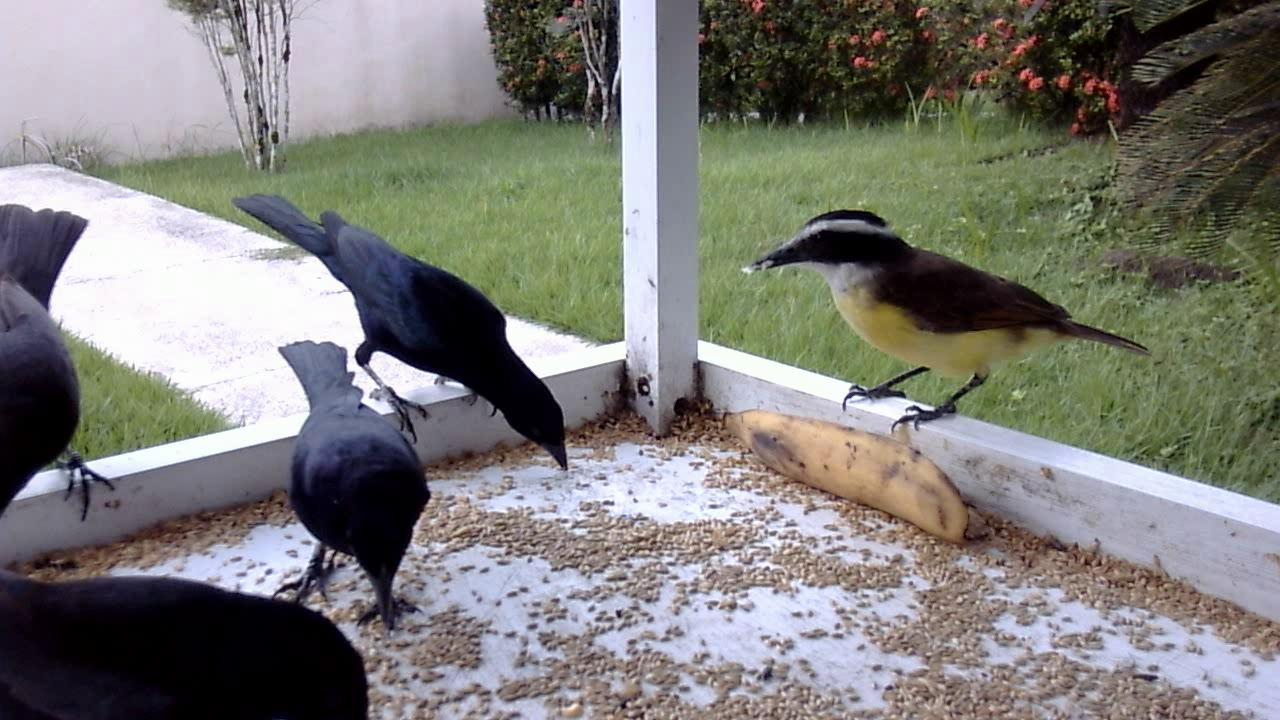bem_te_vi: (738, 207, 1154, 444)
chupim: (234, 193, 577, 475), (1, 184, 132, 551), (276, 332, 425, 632)
